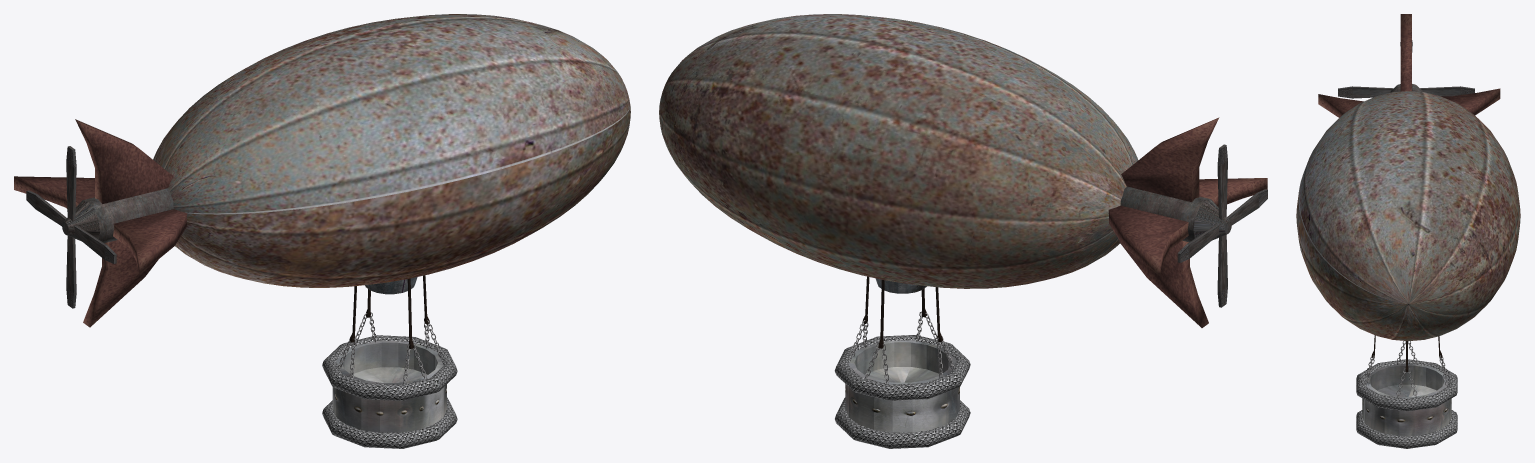
File: villainBalloon_01.FBX
The picture shows the model from 3 angles, left to right: view 1: azimuth 30°, elevation 25°; view 2: azimuth 150°, elevation 25°; view 3: azimuth 270°, elevation 25°; orthographic projection. The views are drawn at different scales.
Visible parts, largest first — view 1: villanBalloon, Cylinder001, Box002; view 2: villanBalloon, Cylinder001, Box002; view 3: villanBalloon, Box002.
Boxes of the visible parts, bbox=[...] form: villanBalloon: bbox=[14, 14, 630, 448]; Cylinder001: bbox=[62, 188, 173, 242]; Box002: bbox=[26, 146, 116, 308]; villanBalloon: bbox=[659, 14, 1267, 448]; Cylinder001: bbox=[1120, 186, 1231, 242]; Box002: bbox=[1177, 144, 1267, 307]; villanBalloon: bbox=[1296, 14, 1520, 448]; Box002: bbox=[1338, 40, 1474, 98].
Bounding box in the file's own units: 33.59 × 22.21 × 15.
Materials: 2 (2 with a texture image).
